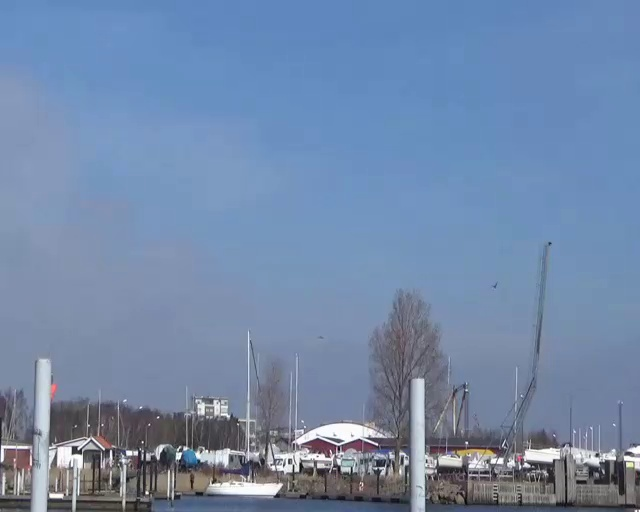BIRD: (491, 281, 499, 290)
